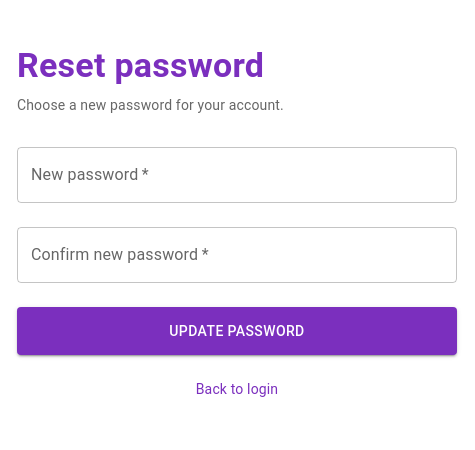
ResetPassword › shows error on invalid or expired token
Type "newpassword99" into the password field labelled "New password *".
click(237, 175); type("newpassword99")  # box [17,147,457,203]
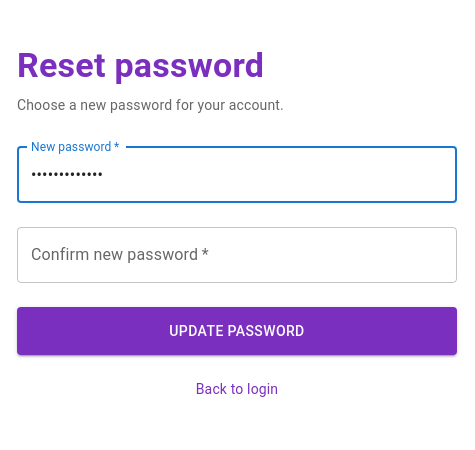
Type "newpassword99" into the password field labelled "Confirm new password *".
click(237, 255); type("newpassword99")  # box [17,227,457,283]
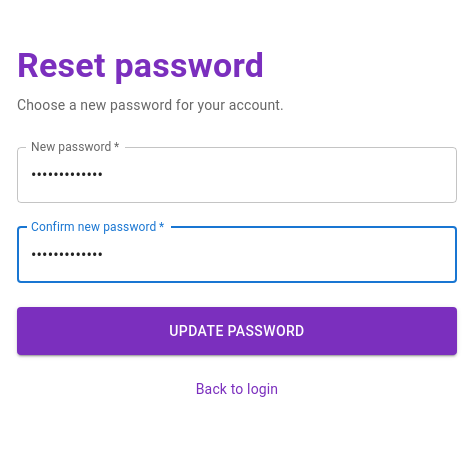
Click the button "Update password".
click(237, 331)  # box [17,307,457,355]
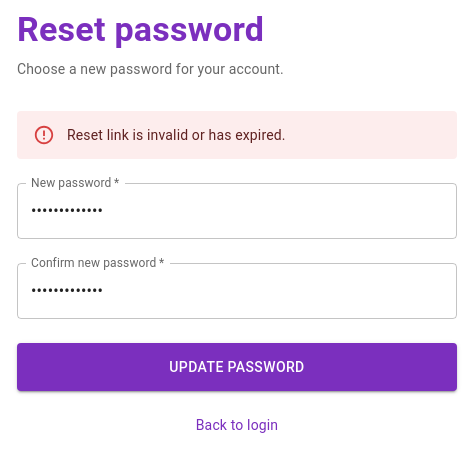
Result: the message shows "invalid or has expired" at [67,127,286,143]
